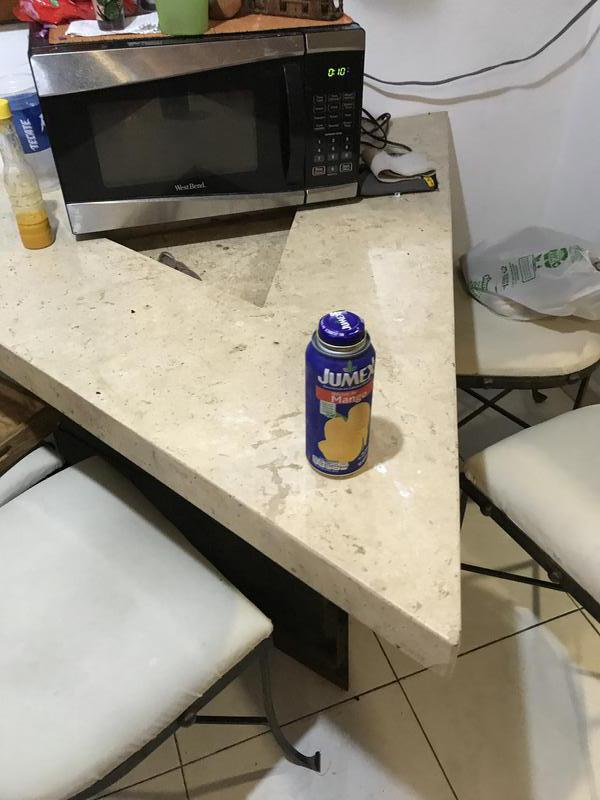jugo_jumex: (305, 309, 372, 477)
